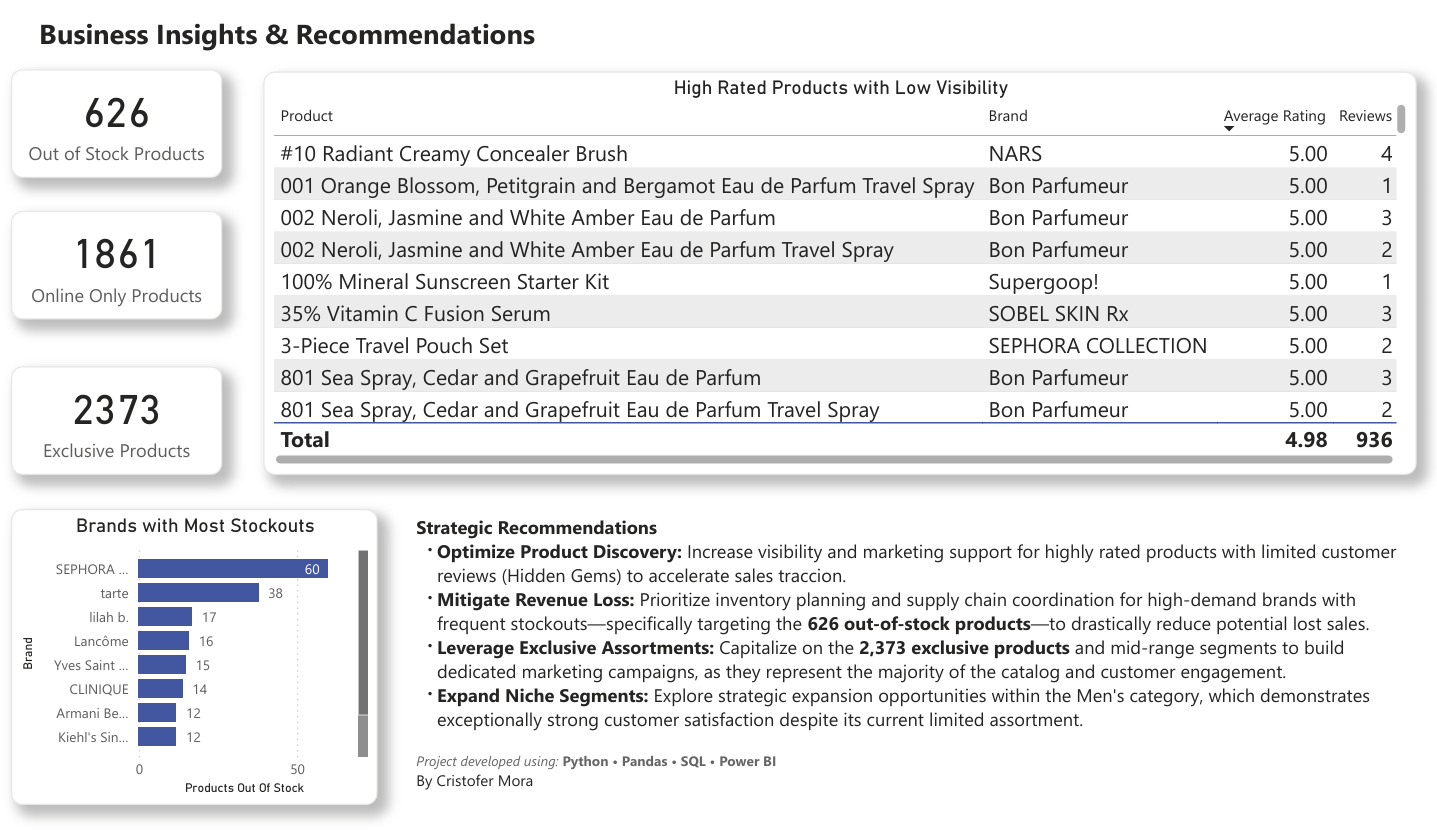

The page's visual inventory and layout, read from the dashboard file:
{"tool":"powerbi","page":{"name":"Business Insights & Recommendations","canvas":[1280,720],"ordinal":3},"visuals":[{"type":"textbox","box":[26.7,0,1253.3,50],"z":0},{"type":"card","fields":{"Values":["Sum(products_engineered.out_of_stock)"]},"box":[26.7,53.3,185,95],"z":1},{"type":"card","fields":{"Values":["Sum(products_engineered.online_only)"]},"box":[26.7,176.7,185,95],"z":2},{"type":"card","fields":{"Values":["Sum(products_engineered.sephora_exclusive)"]},"box":[26.7,313.3,185,95],"z":3},{"type":"barChart","title":"Brands with Most Stockouts","fields":{"Category":["products_engineered.brand_name"],"Y":["Sum(products_engineered.out_of_stock)"]},"box":[26.7,438.3,321.7,258.3],"z":4},{"type":"tableEx","title":"High Rated Products with Low Visibility","fields":{"Values":["products_engineered.product_name","products_engineered.brand_name","Avg(products_engineered.rating)","Sum(products_engineered.reviews)"]},"box":[248.3,55,1010,353.3],"z":5},{"type":"textbox","box":[376.7,438.3,881.7,258.3],"z":6}]}

Visuals, with their boxes on the page's 1280x720 design canvas (x1, y1, x2, y2). These are canvas units, not pixel positions in the 1437x835 screenshot, which may show the page scaled, cropped or inside an application window:
textbox: 27,0,1280,50
card - Sum(products_engineered.out_of_stock): 27,53,212,148
card - Sum(products_engineered.online_only): 27,177,212,272
card - Sum(products_engineered.sephora_exclusive): 27,313,212,408
"Brands with Most Stockouts" barChart: 27,438,348,697
"High Rated Products with Low Visibility" tableEx: 248,55,1258,408
textbox: 377,438,1258,697
